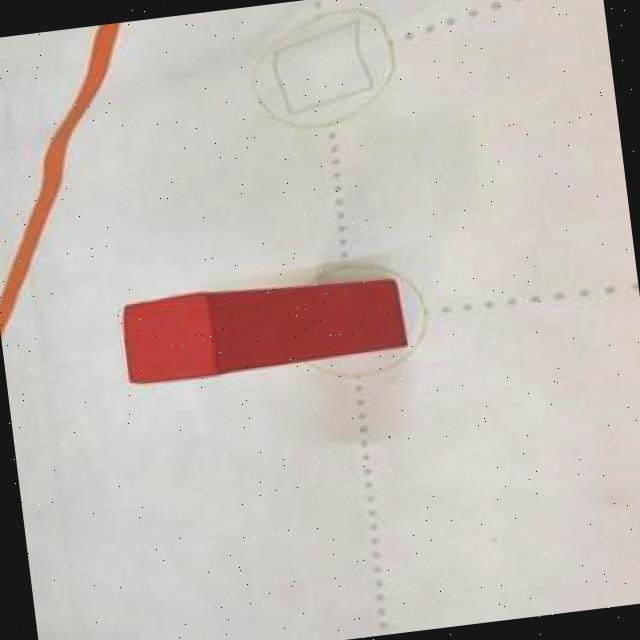redbox: (118, 268, 404, 387)
